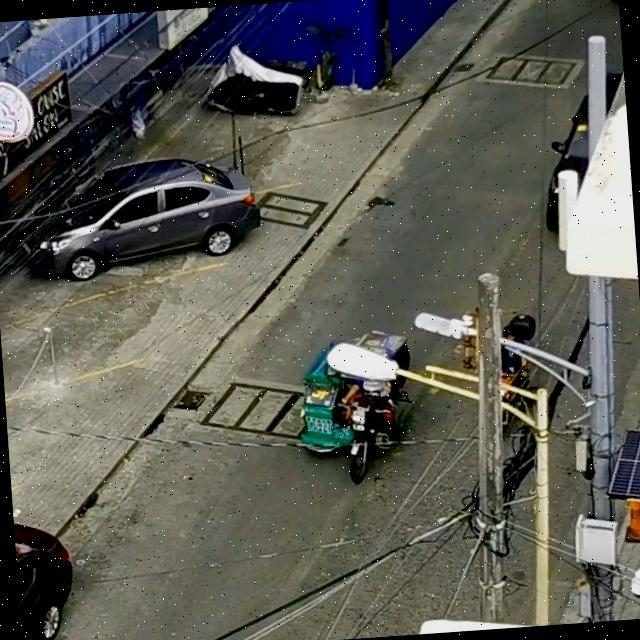Tricycle: (293, 325, 412, 481)
